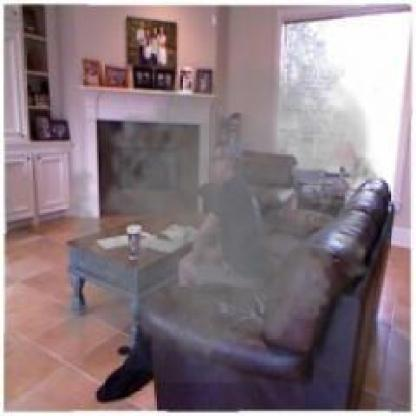Smoke: (45, 35, 387, 383)
